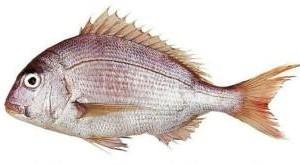fish: (3, 8, 299, 152)
